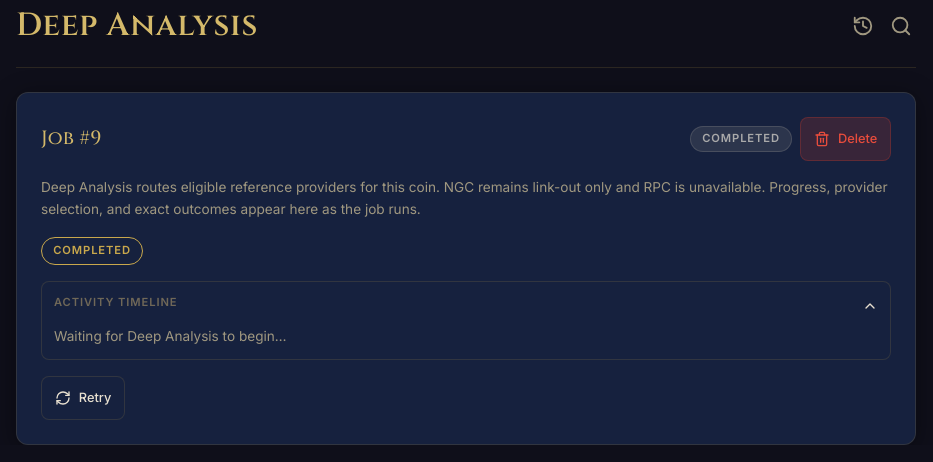
Scenario: DeepAnalysisPage › surfaces an accessible error when delete fails
Click the button with aria-label "Delete this Deep Analysis run". click: (846,139)
box: x1=800 y1=117 x2=891 y2=161
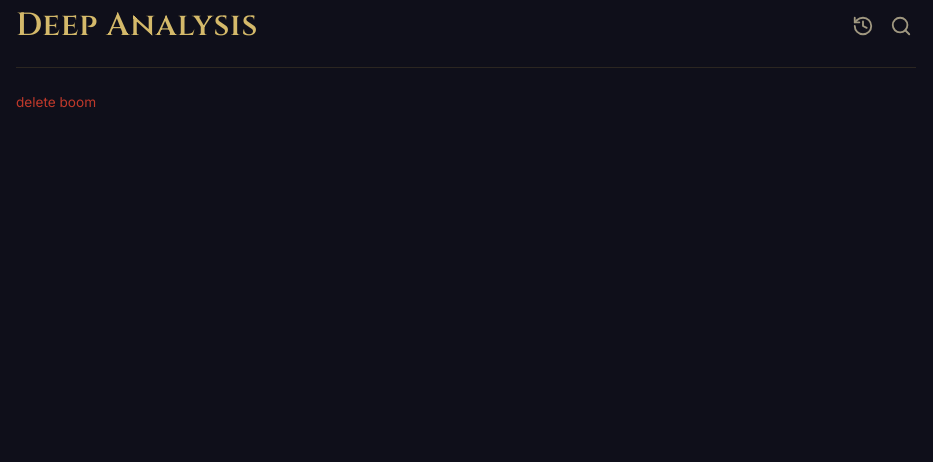
Check: the text "delete boom" is shown, box x1=16 y1=94 x2=96 y2=110
